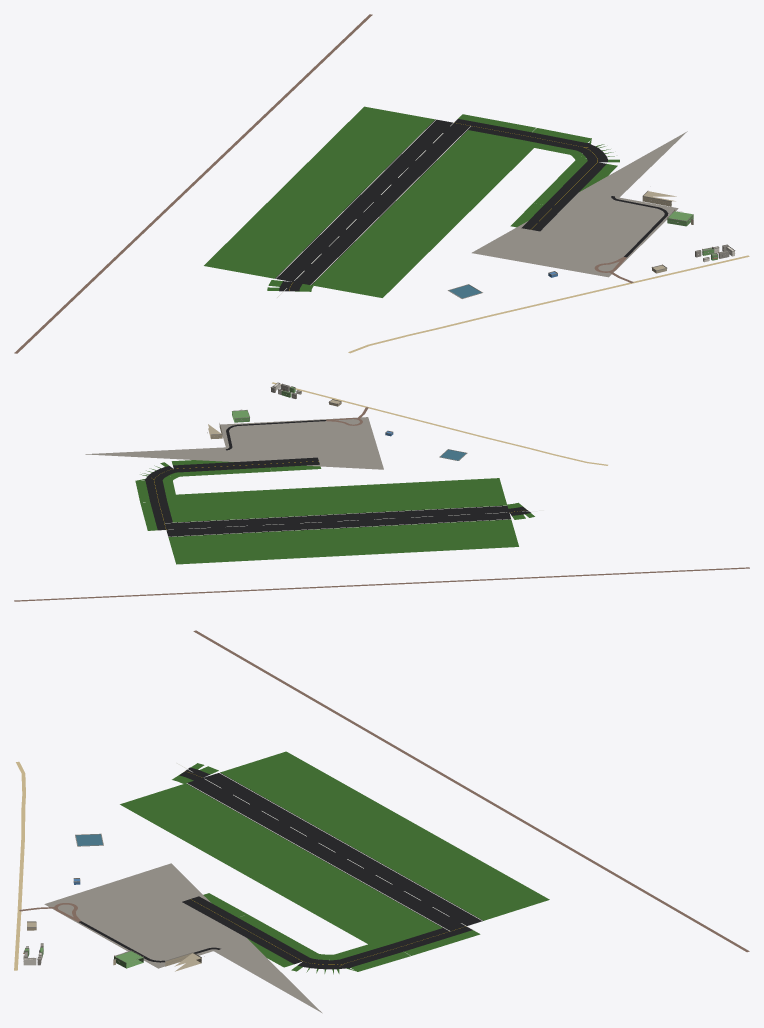
The model's file is zone_t-1_0.glb.
3 renders of one model, top to bottom at view 1: azimuth 30°, elevation 25°; view 2: azimuth 150°, elevation 25°; view 3: azimuth 270°, elevation 25°, orthographic. The views are drawn at different scales.
Parts seen in each view (by area): view 1: zone_herbe_aerodrome_t-1_0, aeroport_tarmac_t-1_0, aeroport_runway_t-1_0, aeroport_taxiway_t-1_0, route_service_paves_t-1_0, route_service_terre_t-1_0, marquage_piste_t-1_0; view 2: zone_herbe_aerodrome_t-1_0, aeroport_tarmac_t-1_0, aeroport_runway_t-1_0, aeroport_taxiway_t-1_0, route_service_paves_t-1_0, marquage_piste_t-1_0, route_service_terre_t-1_0; view 3: zone_herbe_aerodrome_t-1_0, aeroport_tarmac_t-1_0, aeroport_runway_t-1_0, aeroport_taxiway_t-1_0, route_service_paves_t-1_0, route_service_terre_t-1_0, marquage_piste_t-1_0.
Part boxes in pixels (bbox=[...]): zone_herbe_aerodrome_t-1_0: bbox=[204, 106, 619, 297]; aeroport_tarmac_t-1_0: bbox=[472, 131, 687, 277]; aeroport_runway_t-1_0: bbox=[275, 119, 471, 285]; aeroport_taxiway_t-1_0: bbox=[279, 119, 607, 291]; route_service_paves_t-1_0: bbox=[14, 14, 633, 353]; route_service_terre_t-1_0: bbox=[348, 255, 749, 353]; marquage_piste_t-1_0: bbox=[275, 116, 470, 298]; zone_herbe_aerodrome_t-1_0: bbox=[135, 460, 534, 564]; aeroport_tarmac_t-1_0: bbox=[85, 417, 383, 469]; aeroport_runway_t-1_0: bbox=[164, 505, 510, 536]; aeroport_taxiway_t-1_0: bbox=[144, 457, 530, 530]; route_service_paves_t-1_0: bbox=[14, 407, 749, 601]; marquage_piste_t-1_0: bbox=[152, 505, 543, 536]; route_service_terre_t-1_0: bbox=[272, 382, 607, 465]; zone_herbe_aerodrome_t-1_0: bbox=[120, 751, 549, 974]; aeroport_tarmac_t-1_0: bbox=[44, 863, 322, 1013]; aeroport_runway_t-1_0: bbox=[186, 772, 483, 931]; aeroport_taxiway_t-1_0: bbox=[179, 767, 472, 969]; route_service_paves_t-1_0: bbox=[19, 630, 749, 952]; route_service_terre_t-1_0: bbox=[14, 761, 25, 970]; marquage_piste_t-1_0: bbox=[176, 762, 482, 932].
Size of the model in its own units: 956 by 10.5 by 776.
